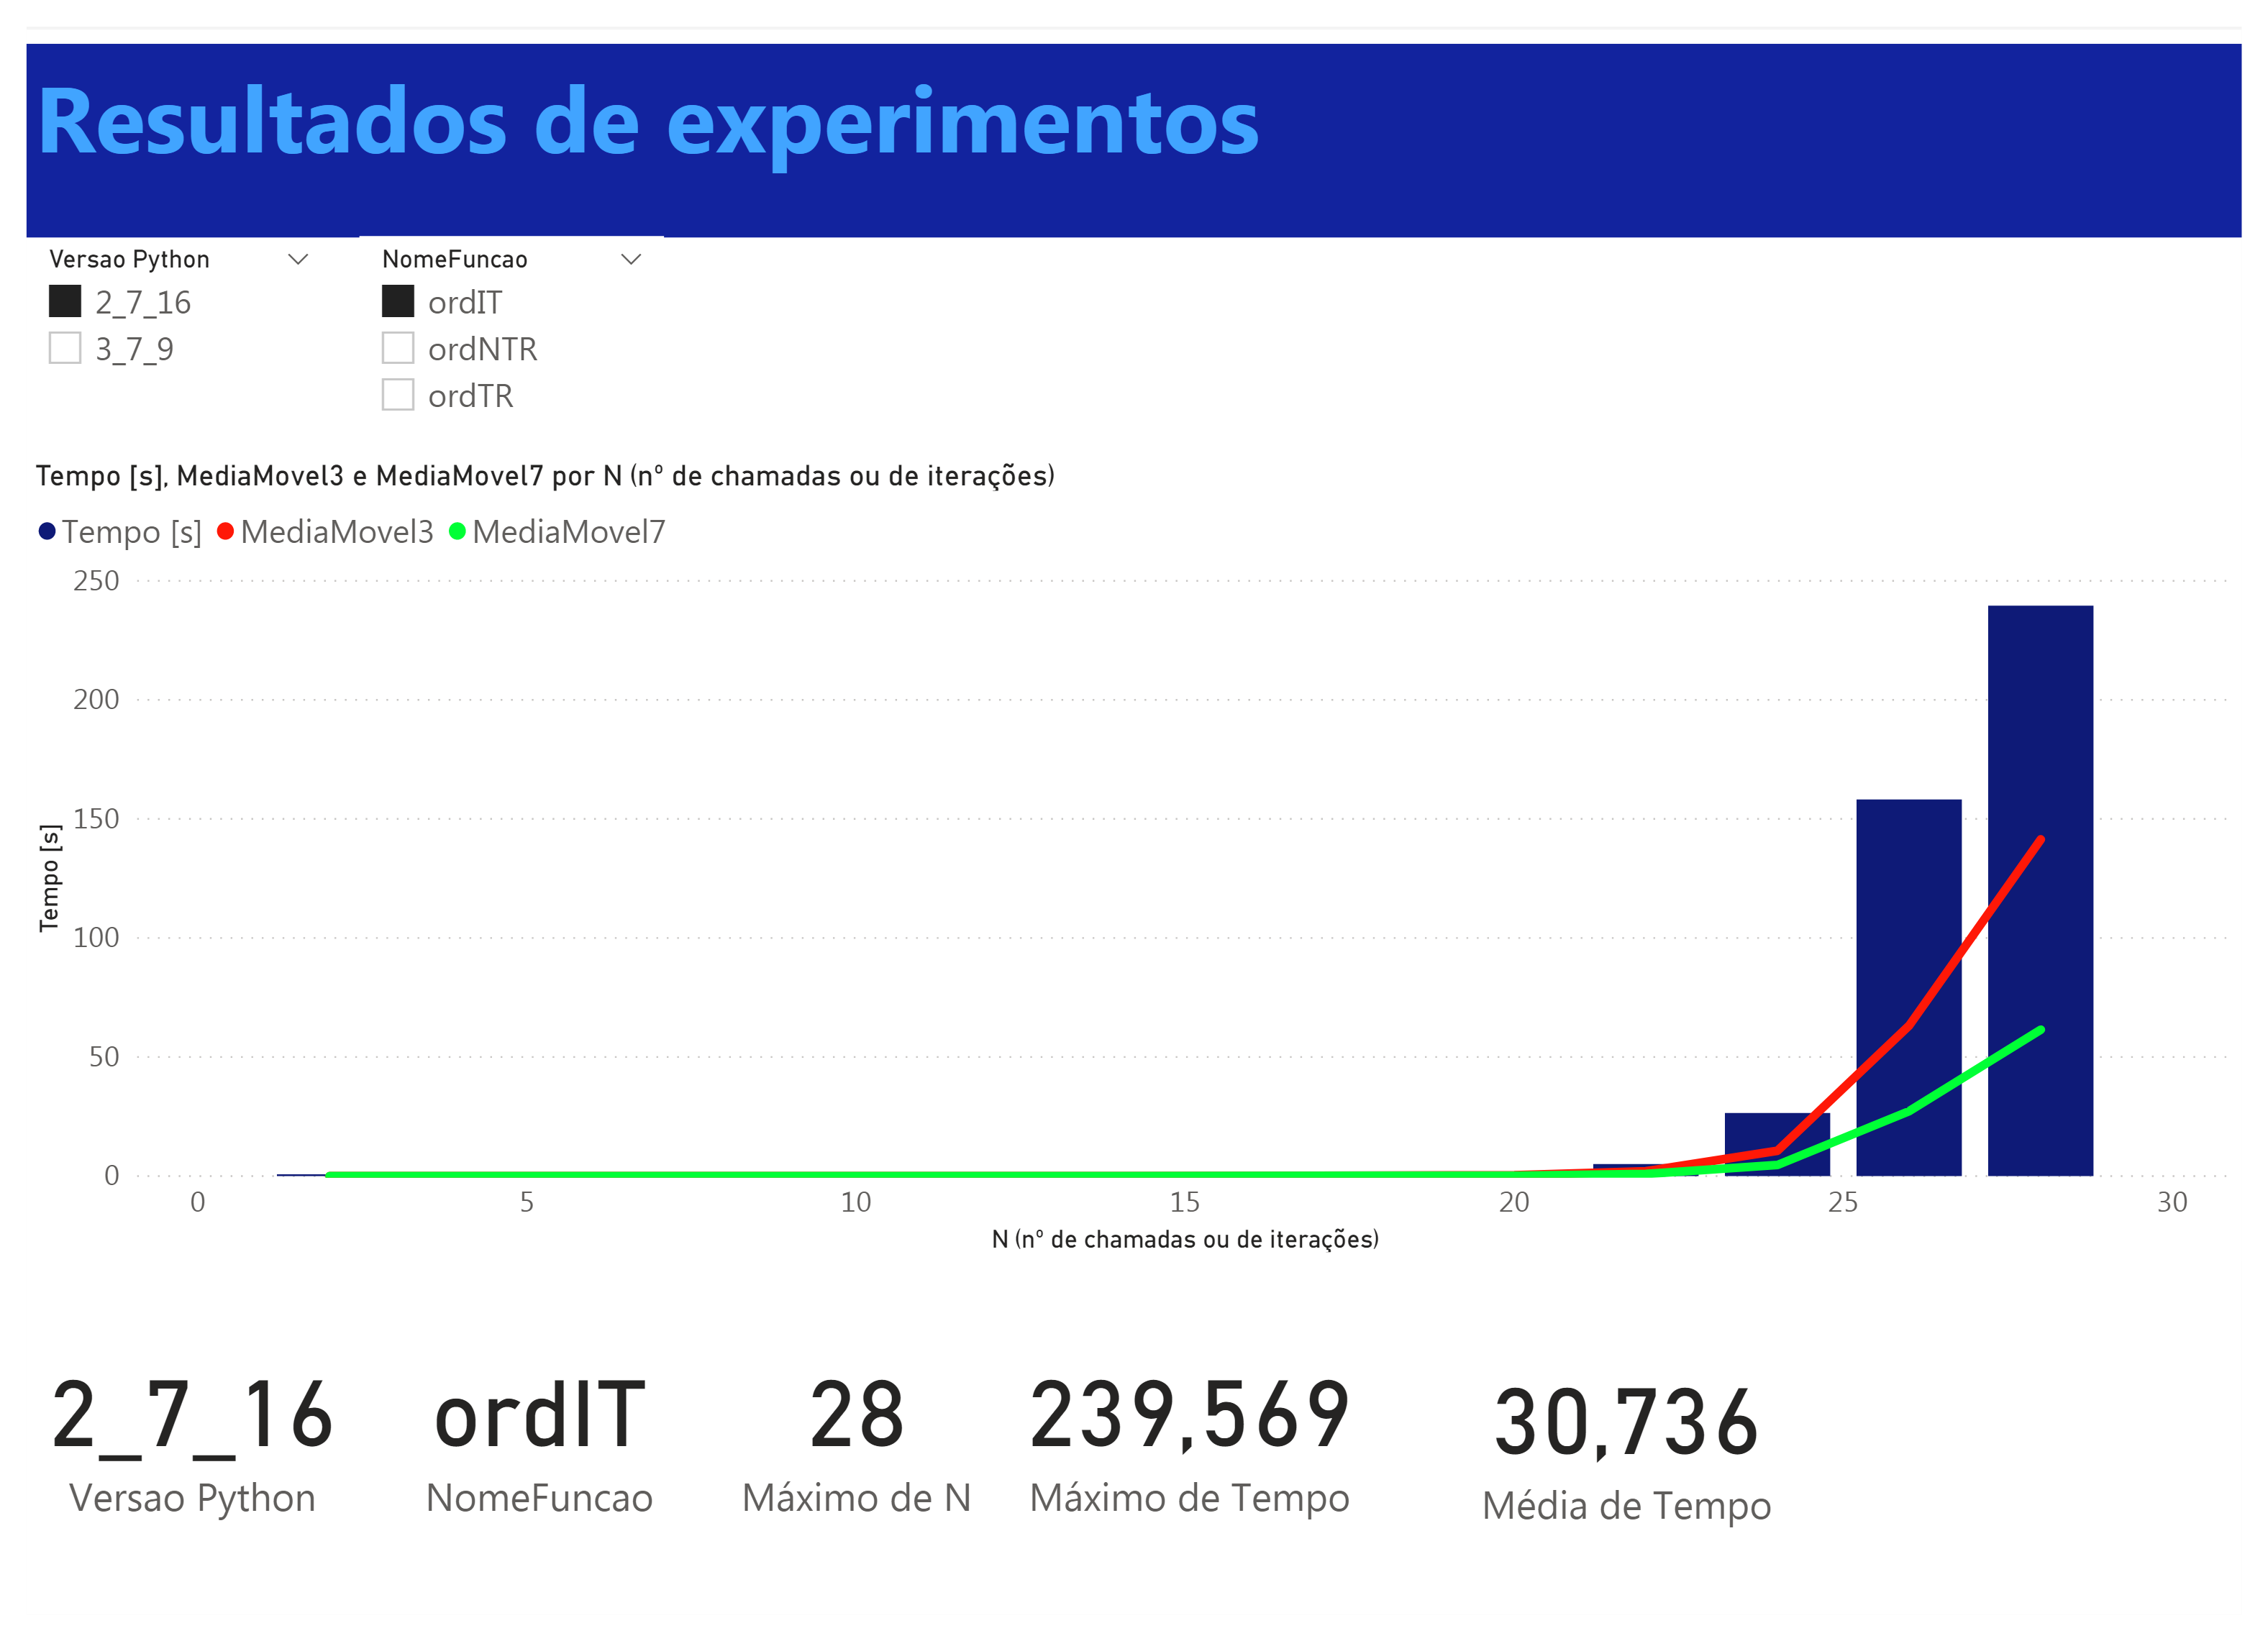

Layout of this report page (visuals, bound fields, positions):
{"tool":"powerbi","page":{"name":"Fibonacci","canvas":[1280,900],"ordinal":7},"visuals":[{"type":"card","fields":{"Values":["Max(Tabela1.Tempo)"]},"box":[600,744,240,144],"z":0},{"type":"card","fields":{"Values":["Min(Tabela1.NomeFuncao)"]},"box":[216,744,216,144],"z":1000},{"type":"card","fields":{"Values":["Max(Tabela1.N)"]},"box":[456,744,144,144],"z":2000},{"type":"card","fields":{"Values":["Avg(Tabela1.Tempo)"]},"box":[816,744,216,144],"z":3000},{"type":"slicer","fields":{"Values":["Tabela1.Versao Python"]},"box":[0,112,176,112],"z":4000},{"type":"card","fields":{"Values":["Min(Tabela1.Versao Python)"]},"box":[24,744,192,144],"z":5000},{"type":"textbox","box":[0,0,1280,112],"z":6000},{"type":"slicer","fields":{"Values":["Tabela1.NomeFuncao"]},"box":[192,112,176,112],"z":7000},{"type":"lineClusteredColumnComboChart","fields":{"Y":["Sum(Tabela1.Tempo)"],"Category":["Tabela1.N"],"Y2":["Tabela1.MediaMovel3","Tabela1.MediaMovel7"]},"box":[0,216,1272,528],"z":8000}]}

Visuals, with their boxes in screenshot pixels (x1, y1, x2, y2), scaled from the page's 1280x900 canvas onto the 2268x1641 screenshot:
card - Max(Tabela1.Tempo): crop(1063, 1356, 1488, 1619)
card - Min(Tabela1.NomeFuncao): crop(383, 1356, 765, 1619)
card - Max(Tabela1.N): crop(808, 1356, 1063, 1619)
card - Avg(Tabela1.Tempo): crop(1446, 1356, 1828, 1619)
slicer - Tabela1.Versao Python: crop(0, 204, 312, 408)
card - Min(Tabela1.Versao Python): crop(42, 1356, 383, 1619)
textbox: crop(0, 0, 2267, 204)
slicer - Tabela1.NomeFuncao: crop(340, 204, 652, 408)
lineClusteredColumnComboChart - Sum(Tabela1.Tempo) x Tabela1.N: crop(0, 394, 2254, 1356)
